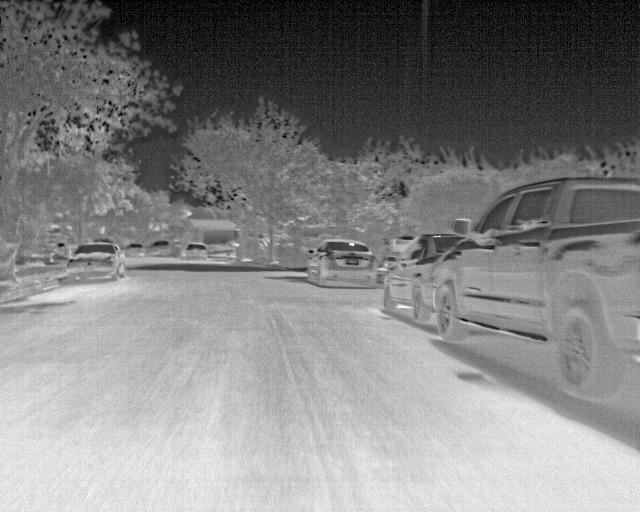car: (456, 154, 635, 424), (375, 225, 471, 329), (307, 227, 384, 313), (47, 222, 122, 290), (144, 238, 185, 263), (116, 240, 151, 267), (183, 239, 212, 271)
